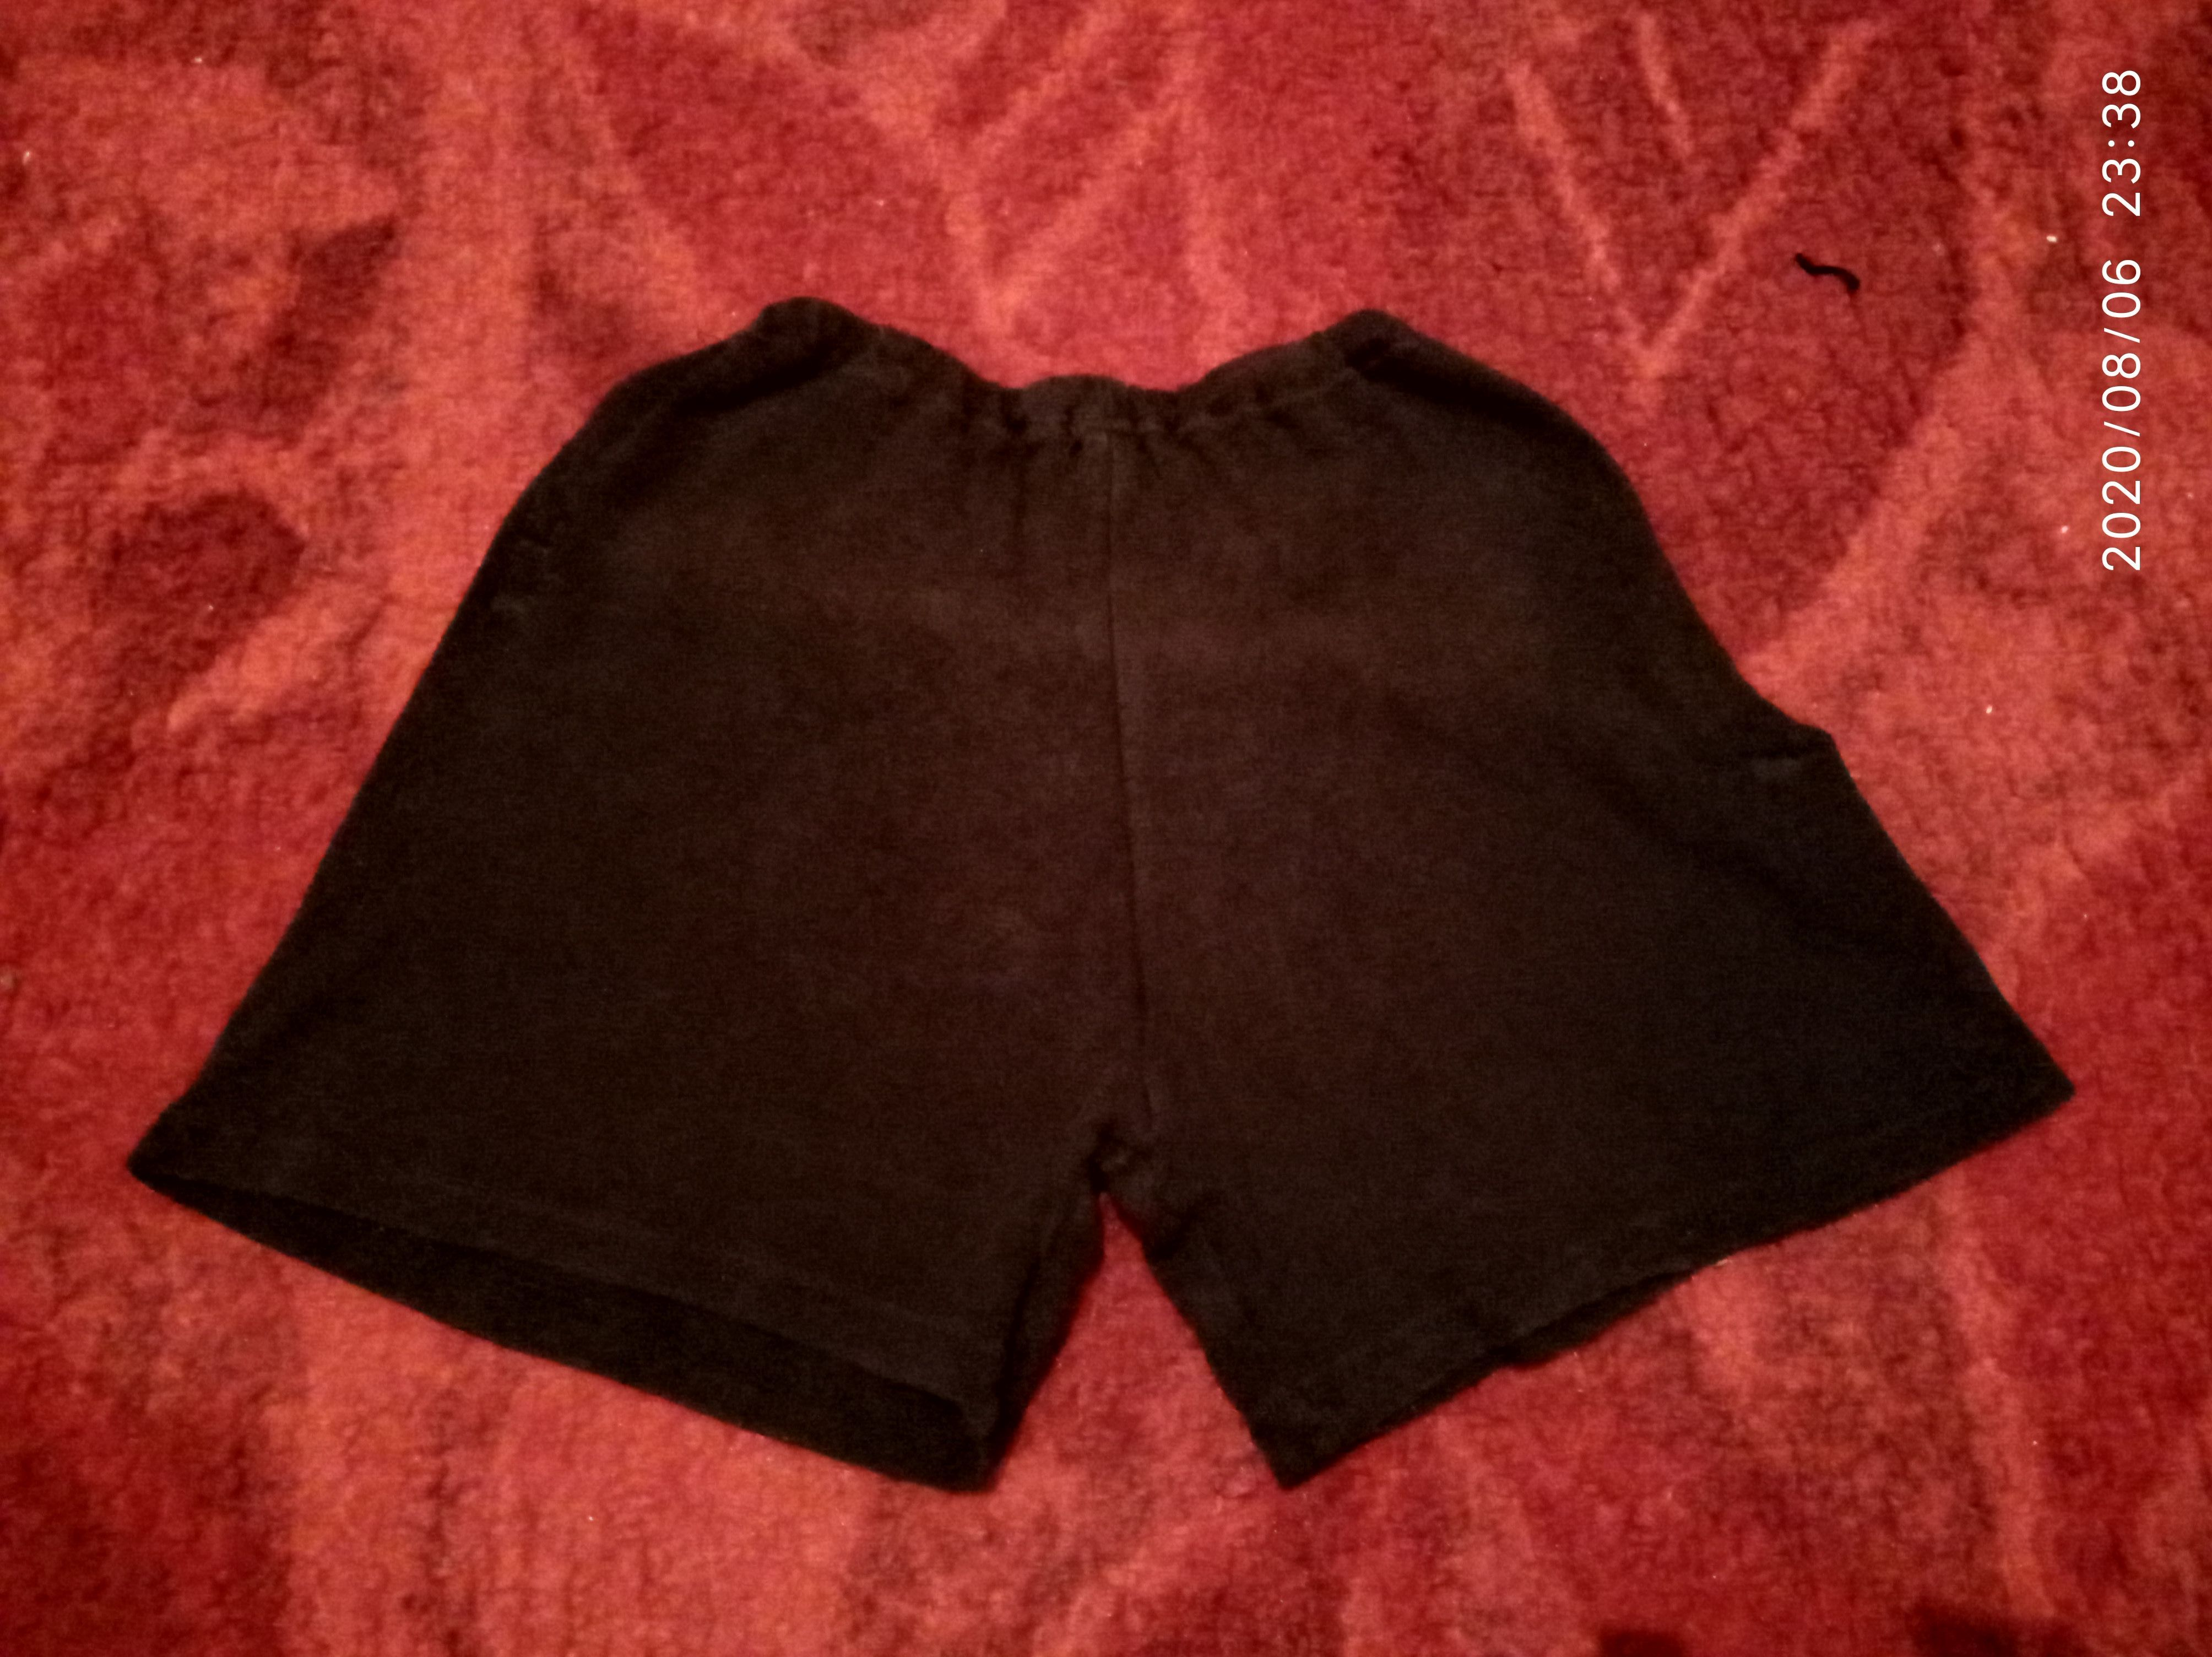clothes: (89, 287, 2078, 1497)
